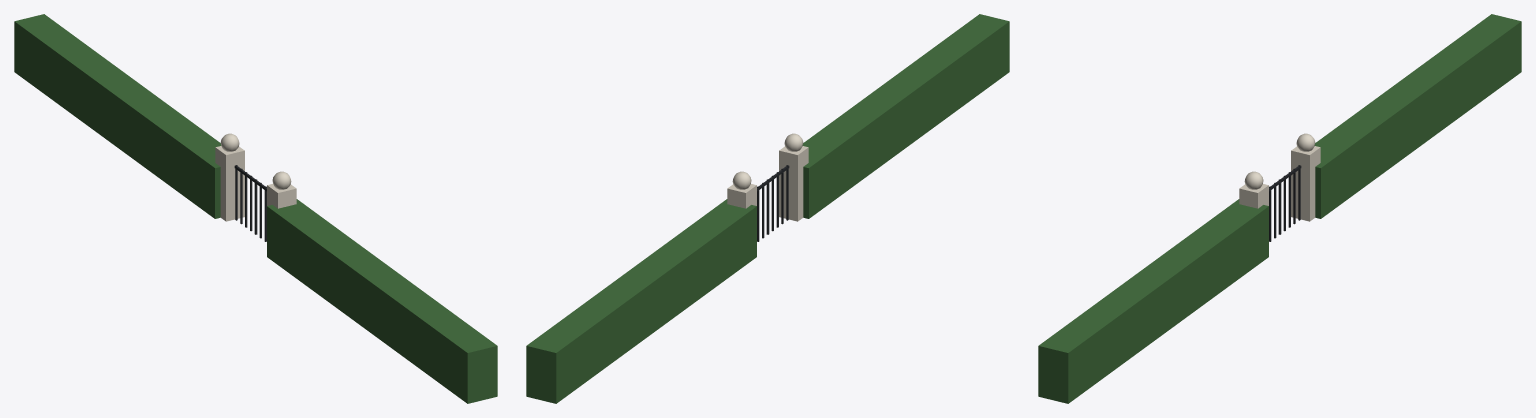
The model's file is hedge-21.obj.
The picture shows the model from 3 angles, left to right: view 1: azimuth 30°, elevation 25°; view 2: azimuth 150°, elevation 25°; view 3: azimuth 330°, elevation 25°; orthographic projection.
Parts seen in each view (by area): view 1: part2, part1, part3, part5; view 2: part1, part2, part5, part3; view 3: part2, part1, part3, part5.
Part boxes in pixels (x1,y1,x2,y2): part2: (267,199,497,403); part1: (14,14,221,218); part3: (215,146,244,221); part5: (267,184,296,208); part1: (526,199,756,403); part2: (802,14,1009,218); part5: (779,146,808,221); part3: (727,184,756,208); part2: (1038,199,1268,403); part1: (1314,14,1521,218); part3: (1291,146,1320,221); part5: (1239,184,1268,208).
Bounding box in the file's own units: 0.8 × 2.07 × 21.
